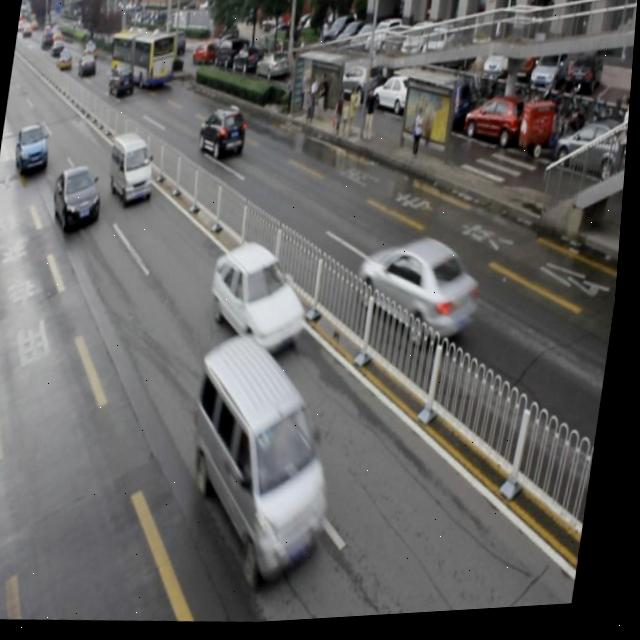car: (353, 233, 489, 352), (207, 237, 318, 358), (53, 162, 107, 229), (195, 103, 250, 165), (14, 123, 56, 176), (107, 63, 135, 103)
truck: (178, 331, 351, 591), (107, 133, 160, 208)
van: (108, 27, 179, 92)
